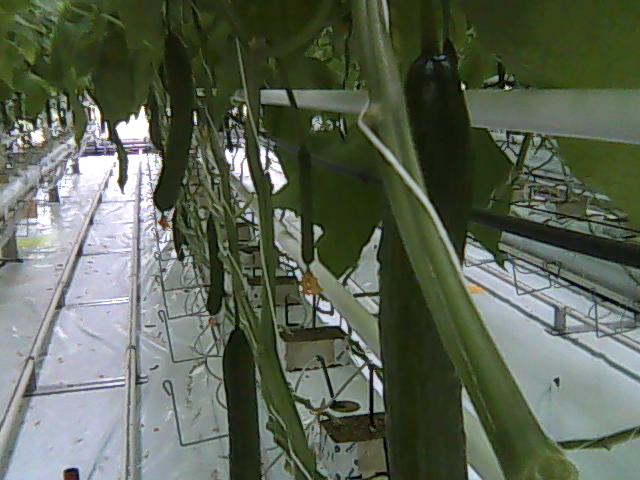concombre: (374, 43, 478, 480), (221, 321, 267, 480)
